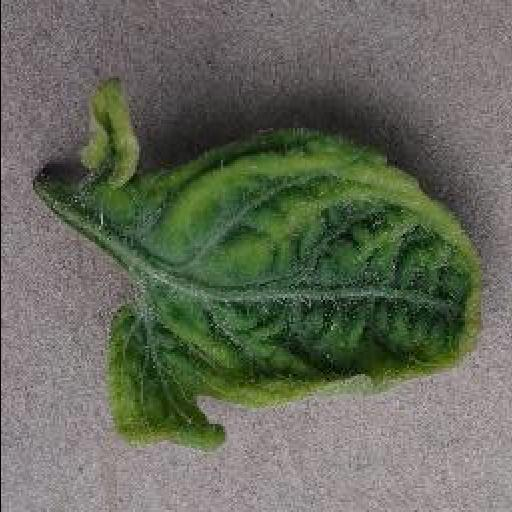disease_tomato: (104, 122, 494, 451)
